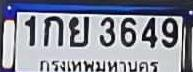1: (24, 14, 34, 44)
3: (99, 16, 114, 46)
4: (141, 16, 156, 46)
6: (120, 16, 135, 46)
9: (161, 17, 177, 47)
A01: (43, 15, 62, 45)
A34: (68, 15, 88, 46)
BKK: (36, 58, 160, 72)
